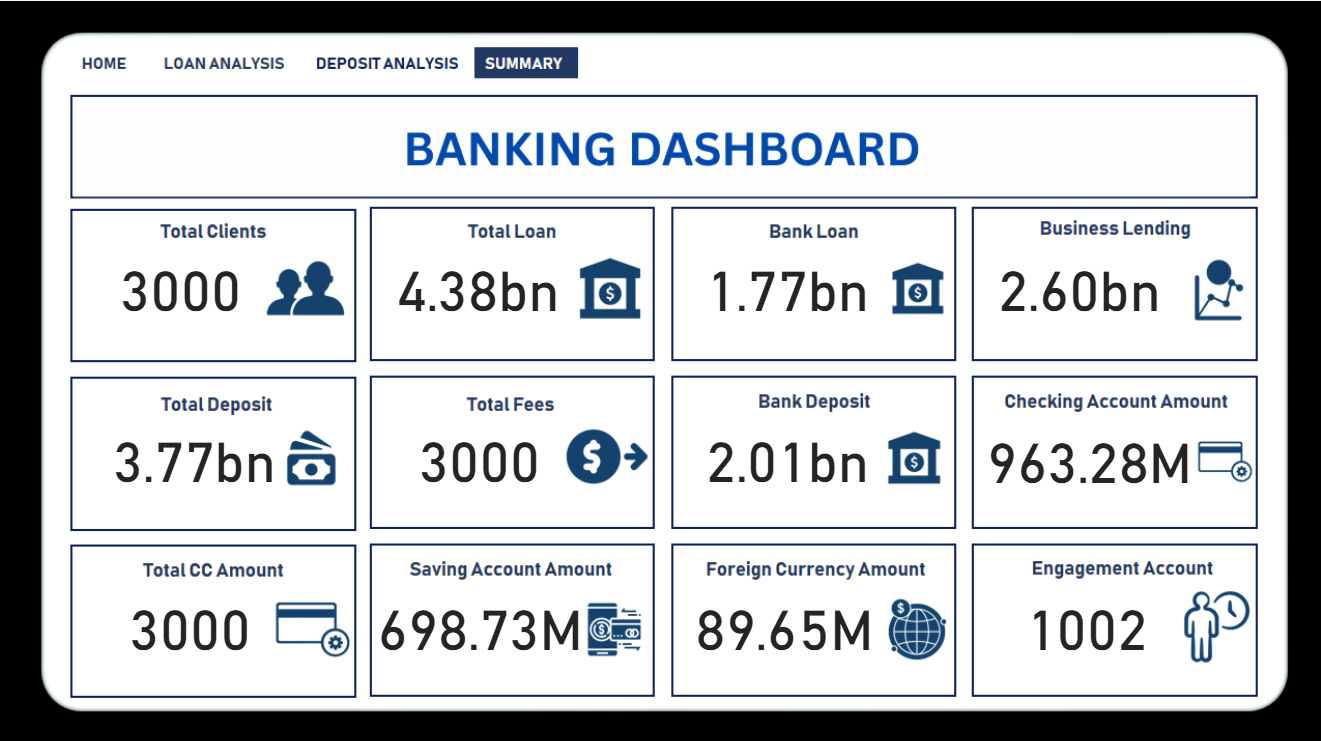

The dashboard page shown, as its layout file describes it:
{"tool":"powerbi","page":{"name":"Summary","canvas":[1280,720],"ordinal":3},"visuals":[{"type":"card","fields":{"Values":["CountNonNull(banking_case customer.Name)"]},"box":[105,240.1,141.2,67.6],"z":0},{"type":"card","fields":{"Values":["banking_case customer.Total Loan"]},"box":[376.4,240.1,172.5,67.6],"z":1},{"type":"card","fields":{"Values":["Sum(banking_case customer.Bank Loans)"]},"box":[673.2,240.1,176.1,67.6],"z":2},{"type":"card","fields":{"Values":["Sum(banking_case customer.Business Lending)"]},"box":[956.7,240.1,172.5,67.6],"z":3},{"type":"card","fields":{"Values":["banking_case customer.Total Deposit"]},"box":[105,406.6,167.7,63.9],"z":4},{"type":"card","fields":{"Values":["CountNonNull(banking_case customer.Fee Structure)"]},"box":[388.5,406.6,150.8,63.9],"z":5},{"type":"card","fields":{"Values":["Sum(banking_case customer.Bank Deposits)"]},"box":[673.2,406.6,176.1,63.9],"z":6},{"type":"card","fields":{"Values":["Sum(banking_case customer.Checking Accounts)"]},"box":[944.6,407.8,216,63.9],"z":7},{"type":"card","fields":{"Values":["CountNonNull(banking_case customer.Checking Accounts)"]},"box":[105,562.2,159.3,76],"z":8},{"type":"card","fields":{"Values":["Sum(banking_case customer.Saving Accounts)"]},"box":[359.5,562.2,209.9,76],"z":9},{"type":"card","fields":{"Values":["Sum(banking_case customer.Foreign Currency Account)"]},"box":[667.2,562.2,182.2,76],"z":10},{"type":"card","fields":{"Values":["banking_case customer.EngagedAccounts"]},"box":[971.2,562.2,158,76],"z":11},{"type":"actionButton","box":[66.4,44.6,77.2,33.8],"z":12},{"type":"actionButton","box":[154.4,42.2,130.3,39.8],"z":13},{"type":"actionButton","box":[300.4,42.2,148.4,39.8],"z":14}]}

Visuals, with their boxes in screenshot pixels (x1, y1, x2, y2), scaled from the page's 1280x720 canvas onto the 1321x741 screenshot:
card - CountNonNull(banking_case customer.Name): [left=108, top=247, right=254, bottom=317]
card - banking_case customer.Total Loan: [left=388, top=247, right=566, bottom=317]
card - Sum(banking_case customer.Bank Loans): [left=695, top=247, right=877, bottom=317]
card - Sum(banking_case customer.Business Lending): [left=987, top=247, right=1165, bottom=317]
card - banking_case customer.Total Deposit: [left=108, top=418, right=281, bottom=484]
card - CountNonNull(banking_case customer.Fee Structure): [left=401, top=418, right=557, bottom=484]
card - Sum(banking_case customer.Bank Deposits): [left=695, top=418, right=877, bottom=484]
card - Sum(banking_case customer.Checking Accounts): [left=975, top=420, right=1198, bottom=485]
card - CountNonNull(banking_case customer.Checking Accounts): [left=108, top=579, right=273, bottom=657]
card - Sum(banking_case customer.Saving Accounts): [left=371, top=579, right=588, bottom=657]
card - Sum(banking_case customer.Foreign Currency Account): [left=689, top=579, right=877, bottom=657]
card - banking_case customer.EngagedAccounts: [left=1002, top=579, right=1165, bottom=657]
actionButton: [left=69, top=46, right=148, bottom=81]
actionButton: [left=159, top=43, right=294, bottom=84]
actionButton: [left=310, top=43, right=463, bottom=84]
